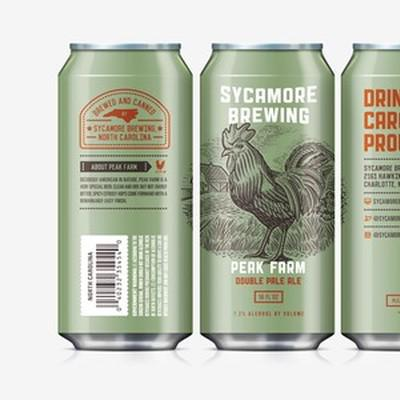beer: (56, 42, 400, 353)
